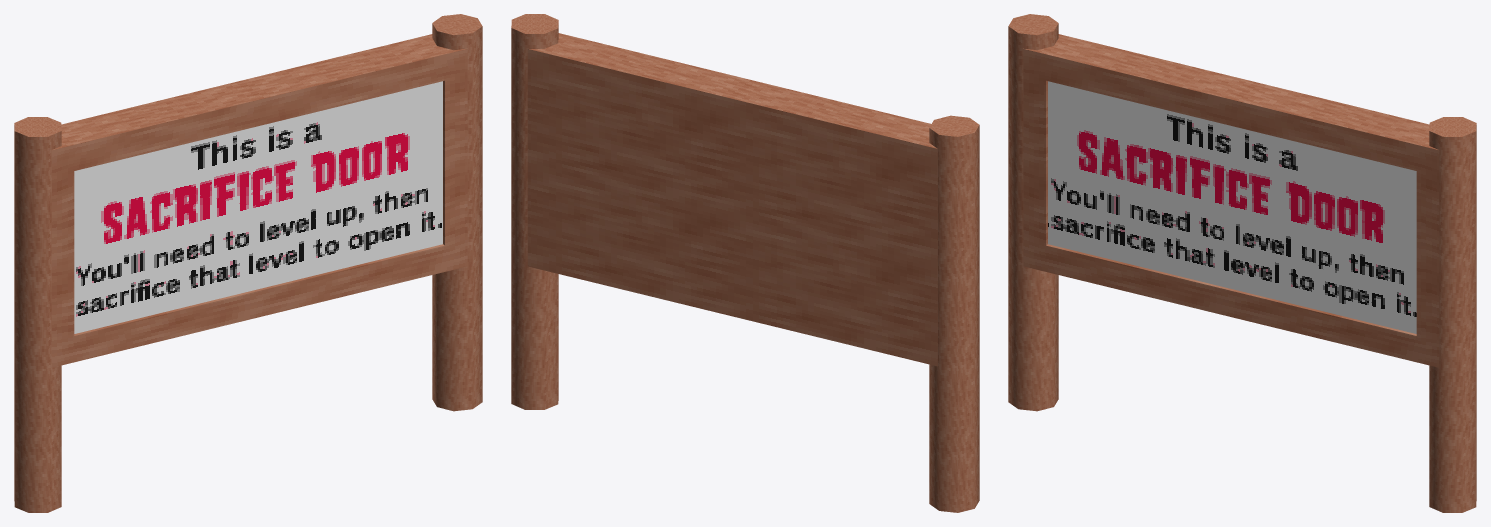
Rendered from sign2.glb.
3 views of the same model, side by side, from view 1: azimuth 30°, elevation 25°; view 2: azimuth 150°, elevation 25°; view 3: azimuth 330°, elevation 25° (orthographic).
Visible parts, largest first — view 1: Cube; view 2: Cube; view 3: Cube.
Boxes of the visible parts, <box> form: Cube: <box>14,14,482,512</box>; Cube: <box>511,14,979,512</box>; Cube: <box>1008,14,1476,512</box>.
Bounding box in the file's own units: 4.45 × 3.46 × 0.4206.
Materials: 2 (2 with a texture image).
